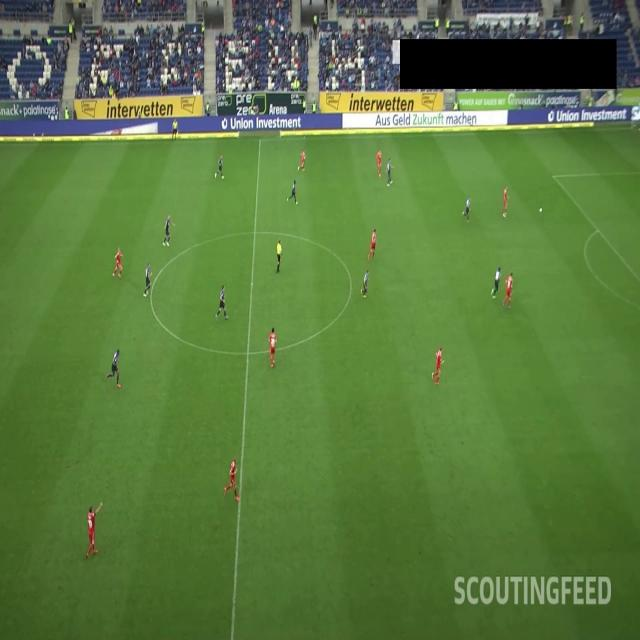ball: (538, 201, 544, 217)
player: (85, 504, 98, 556), (110, 346, 123, 392), (227, 458, 240, 502), (218, 282, 229, 321), (432, 347, 443, 382), (269, 328, 278, 367), (143, 262, 152, 300), (492, 266, 501, 300), (375, 148, 385, 178), (288, 177, 298, 205), (164, 213, 172, 248), (215, 152, 225, 179), (386, 158, 394, 191), (501, 186, 508, 223), (115, 247, 122, 281), (362, 268, 369, 296), (507, 272, 512, 308), (371, 228, 376, 263), (300, 148, 307, 172)
